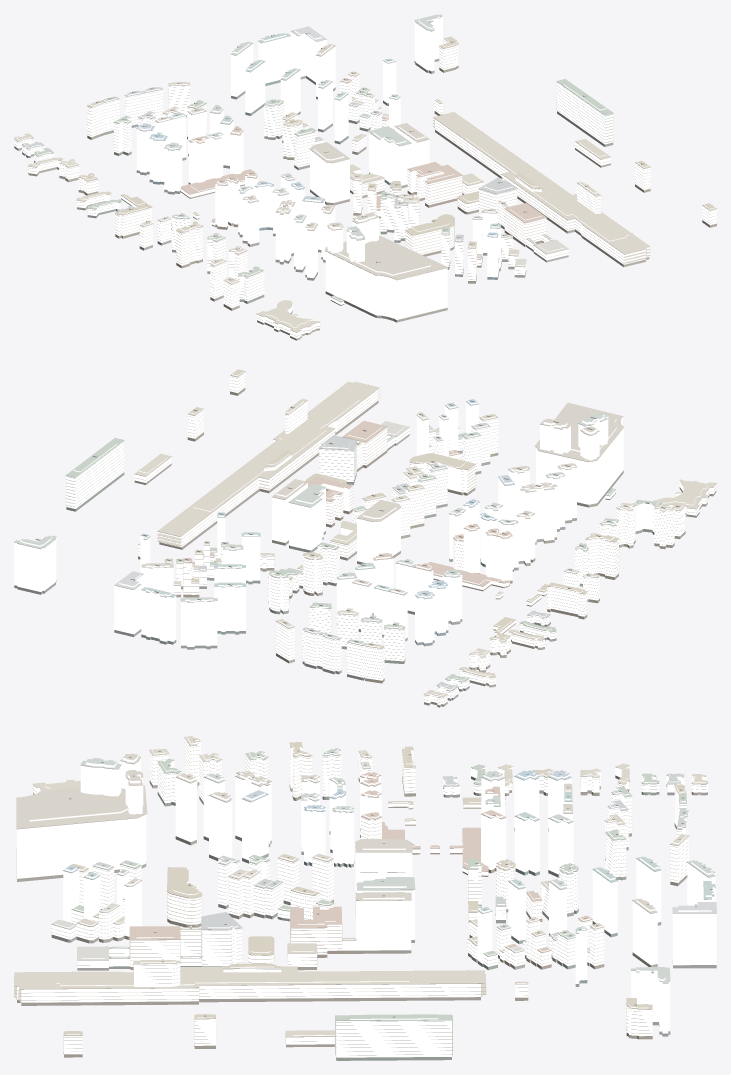
The model's file is buildings--9_-4-fine.glb.
3 views of the same model, one above another, from view 1: azimuth 30°, elevation 25°; view 2: azimuth 150°, elevation 25°; view 3: azimuth 270°, elevation 25° (orthographic). The views are drawn at different scales.
Parts seen in each view (by area): view 1: block_-9_-4_office, block_-9_-4_residential, block_-9_-4_roof, block_-9_-4_darkglass, block_-9_-4_concrete, block_-9_-4_steel; view 2: block_-9_-4_office, block_-9_-4_residential, block_-9_-4_roof, block_-9_-4_darkglass, block_-9_-4_concrete, block_-9_-4_steel; view 3: block_-9_-4_residential, block_-9_-4_office, block_-9_-4_roof, block_-9_-4_darkglass, block_-9_-4_concrete, block_-9_-4_steel.
Part boxes in pixels (x1,y1,x2,y2): block_-9_-4_office: [136, 16, 500, 319]; block_-9_-4_residential: [14, 39, 716, 338]; block_-9_-4_roof: [14, 14, 716, 336]; block_-9_-4_darkglass: [14, 58, 716, 340]; block_-9_-4_concrete: [14, 39, 716, 336]; block_-9_-4_steel: [136, 16, 500, 280]; block_-9_-4_office: [14, 400, 623, 646]; block_-9_-4_residential: [66, 371, 716, 705]; block_-9_-4_roof: [14, 369, 716, 700]; block_-9_-4_darkglass: [14, 388, 716, 707]; block_-9_-4_concrete: [66, 371, 716, 702]; block_-9_-4_steel: [14, 401, 623, 602]; block_-9_-4_residential: [17, 736, 707, 1057]; block_-9_-4_office: [17, 755, 716, 1033]; block_-9_-4_roof: [14, 736, 716, 1057]; block_-9_-4_darkglass: [17, 775, 716, 1060]; block_-9_-4_concrete: [14, 737, 707, 1055]; block_-9_-4_steel: [16, 757, 716, 983].
Size of the model in its own units: 666 by 93.22 by 691.
